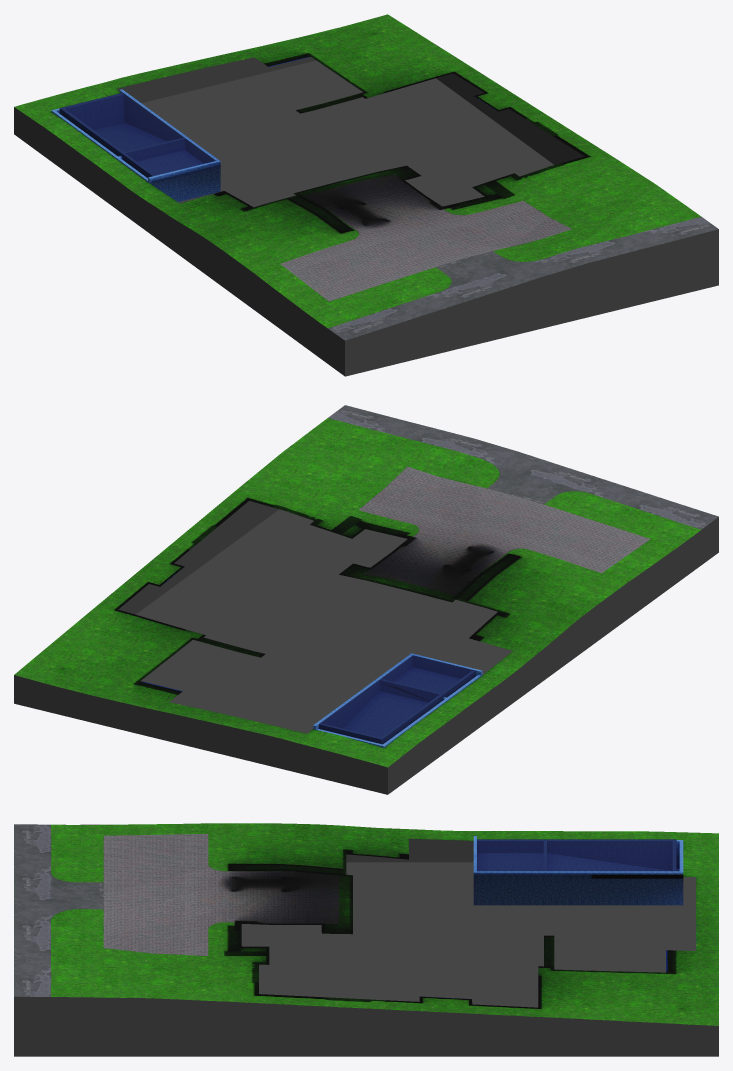
The model's file is site.glb.
3 views of the same model, one above another, from view 1: azimuth 30°, elevation 25°; view 2: azimuth 150°, elevation 25°; view 3: azimuth 270°, elevation 25° (orthographic). The views are drawn at different scales.
Visible parts, largest first — view 1: site.export, Base, water.002; view 2: site.export, Base, water.002; view 3: site.export, Base, water.002.
Part boxes in pixels (x1,y1,x2,y2): site.export: [14, 14, 718, 340]; Base: [14, 57, 718, 376]; water.002: [59, 92, 215, 177]; site.export: [14, 405, 718, 767]; Base: [14, 468, 718, 794]; water.002: [319, 656, 475, 744]; site.export: [14, 823, 718, 1025]; Base: [14, 823, 718, 1056]; water.002: [477, 839, 676, 871].
Size of the model in its own units: 26.31 by 3.78 by 40.36.
3 materials, 1 textured.
